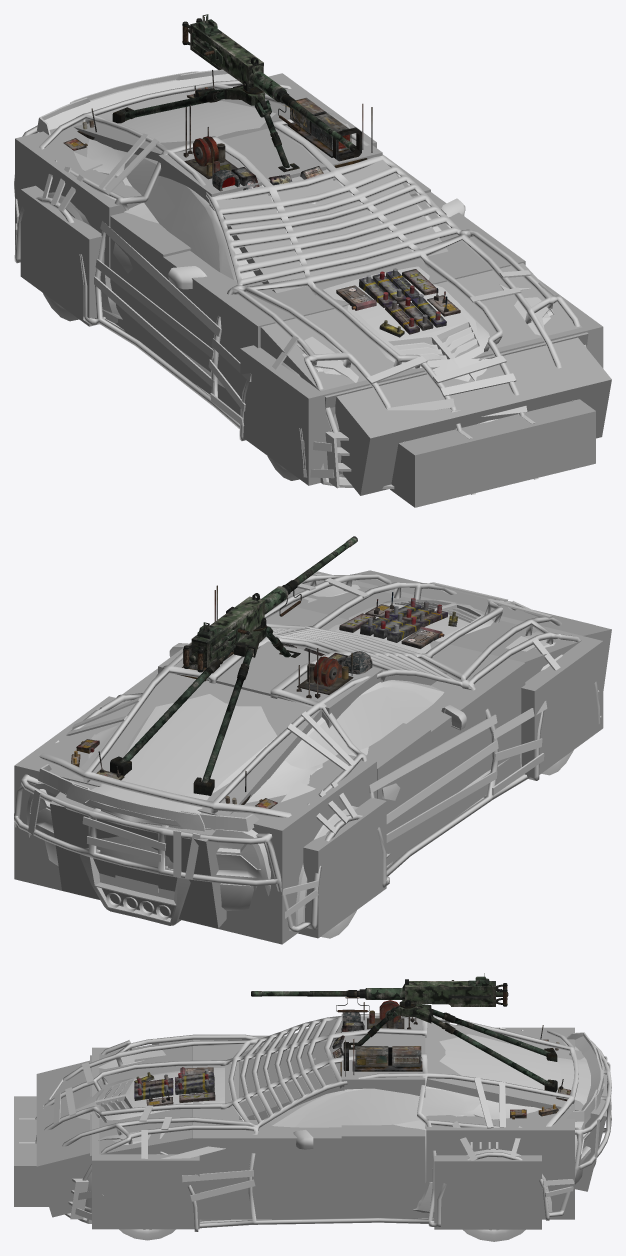
File: mh_christianB_corvette_002.fbx
3 renders of one model, top to bottom at view 1: azimuth 30°, elevation 25°; view 2: azimuth 150°, elevation 25°; view 3: azimuth 270°, elevation 25°, orthographic. The views are drawn at different scales.
Parts seen in each view (by area): view 1: main_armor, CarBody, pCube111, pCube112, pCube109, placche_armor, pCube114, pCube110, pCube113, pCube115, pCube108, pCube107 (+8 smaller); view 2: CarBody, main_armor, pCube105, pCube108, placche_armor, pCube109, pCube114, pCube115, pCube107, Gun, pCube104, pCube110 (+5 smaller); view 3: main_armor, CarBody, pCube109, pCube114, pCube115, pCube107, pCube108, pCube111, pCube110, pCube105, placche_armor, Gun (+10 smaller).
Part boxes in pixels (bbox=[...]): main_armor: bbox=[14, 80, 586, 468]; CarBody: bbox=[37, 69, 554, 485]; pCube111: bbox=[335, 337, 611, 495]; pCube112: bbox=[390, 399, 595, 507]; pCube109: bbox=[163, 192, 525, 415]; placche_armor: bbox=[15, 93, 555, 478]; pCube114: bbox=[240, 279, 603, 485]; pCube110: bbox=[260, 263, 588, 409]; pCube113: bbox=[209, 160, 447, 293]; pCube115: bbox=[20, 185, 104, 326]; pCube108: bbox=[15, 73, 376, 268]; pCube107: bbox=[110, 155, 430, 359]; CarBody: bbox=[26, 584, 562, 925]; main_armor: bbox=[14, 573, 600, 932]; pCube105: bbox=[50, 673, 321, 928]; pCube108: bbox=[14, 696, 376, 944]; placche_armor: bbox=[28, 578, 601, 918]; pCube109: bbox=[260, 598, 525, 834]; pCube114: bbox=[301, 569, 603, 778]; pCube115: bbox=[298, 798, 386, 938]; pCube107: bbox=[122, 668, 430, 865]; Gun: bbox=[183, 536, 357, 672]; pCube104: bbox=[158, 641, 382, 728]; pCube110: bbox=[287, 580, 581, 681]; main_armor: bbox=[35, 1013, 611, 1231]; CarBody: bbox=[75, 1028, 604, 1223]; pCube109: bbox=[193, 1035, 341, 1219]; pCube114: bbox=[92, 1047, 199, 1229]; pCube115: bbox=[434, 1155, 541, 1229]; pCube107: bbox=[341, 1124, 425, 1218]; pCube108: bbox=[426, 1027, 574, 1219]; pCube111: bbox=[36, 1060, 91, 1217]; pCube110: bbox=[90, 1039, 192, 1164]; pCube105: bbox=[425, 1022, 606, 1191]; placche_armor: bbox=[35, 1020, 611, 1220]; Gun: bbox=[251, 973, 508, 1012].
Size of what is drawn, in the model's own units: 216 by 185 by 468.
